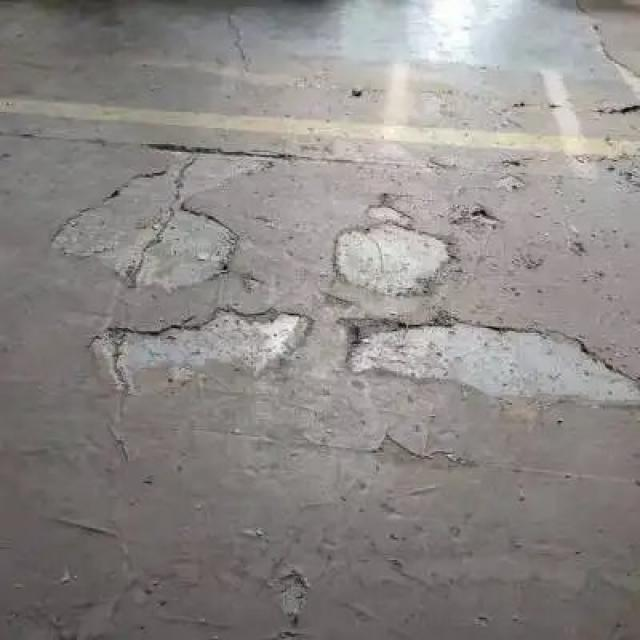Pothole: (346, 314, 638, 421), (46, 140, 235, 290), (84, 304, 318, 395), (324, 202, 450, 298)
